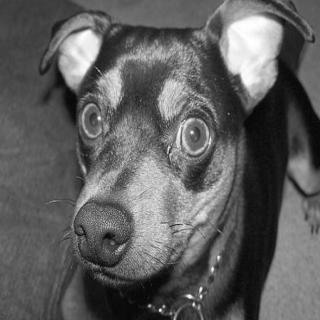dog: (32, 0, 317, 299)
nose: (69, 199, 133, 272)
